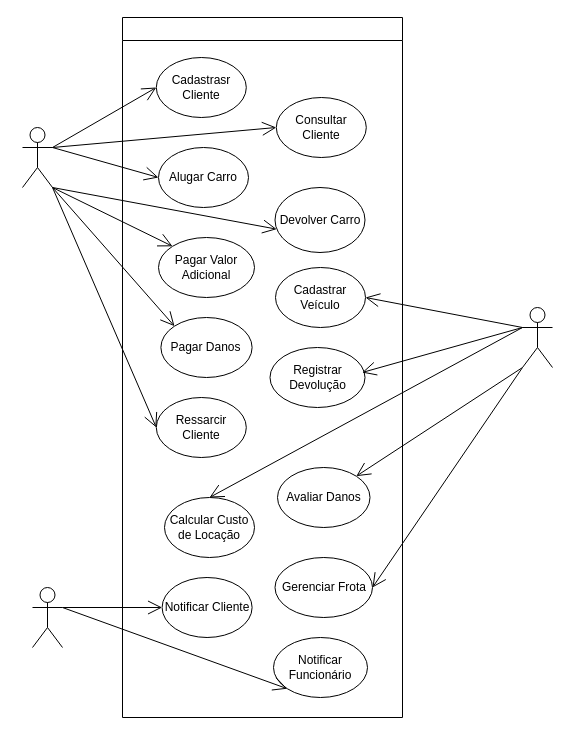
This 586x735 diagram has some shape labels left out. The shapes that lost their labels are listed below. From the top down, each one's box as (x1, y1, x2, y2) in pixels, then its label:
(22, 126, 52, 188): Cliente
(522, 306, 552, 368): Funcionário
(122, 16, 402, 718): Sistema de Controle de Aluguel de Veículos
(32, 586, 62, 648): Sistema
